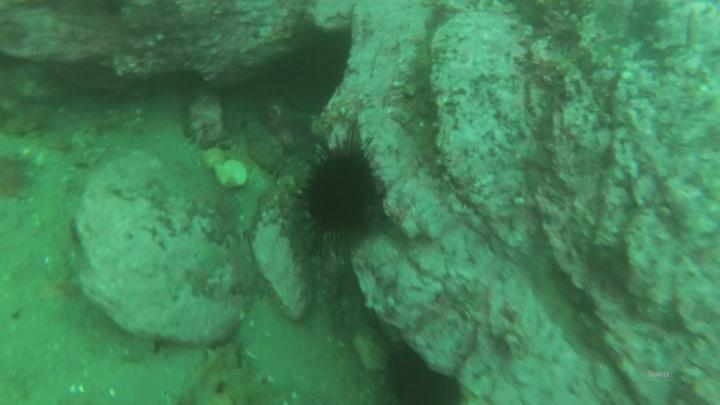echinus: (287, 134, 388, 249), (377, 341, 464, 405)
holothurian: (170, 343, 249, 405)
